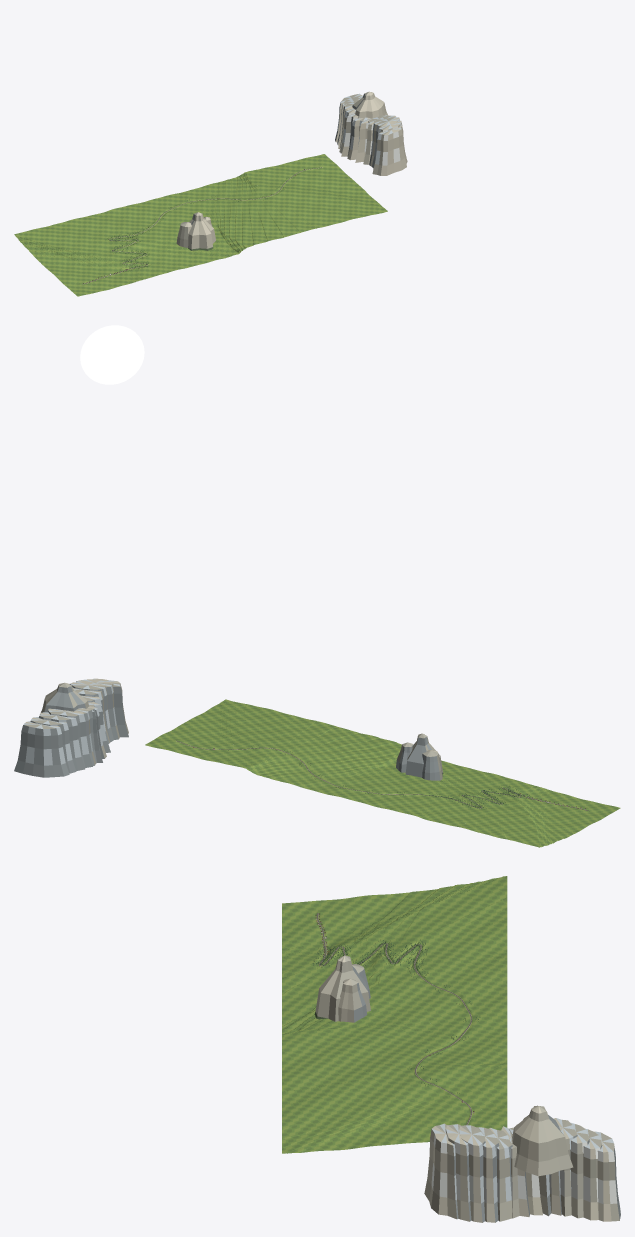
The model's file is campolongo.glb.
The picture shows the model from 3 angles, top to bottom: view 1: azimuth 30°, elevation 25°; view 2: azimuth 150°, elevation 25°; view 3: azimuth 270°, elevation 25°; orthographic projection. The views are drawn at different scales.
Parts seen in each view (by area): view 1: Peaks, Land_014, Land_015, Land_007, Land_017, Land_013, Land_000, Land_004, Land_010, Land_005, Land_009, Land_012 (+6 smaller); view 2: Peaks, Land_014, Sun, Land_015, Land_013, Land_017, Land_007, Land_000, Land_010, Land_012, Land_016, Land_011 (+5 smaller); view 3: Peaks, Land_015, Land_014, Land_007, Land_000, Land_017, Land_013, Land_010, Land_016, Land_009, Land_011, Land_008 (+7 smaller).
Boxes of the visible parts, x1,y1,x2,y2 form: Peaks: (176, 91, 407, 250); Land_014: (247, 181, 332, 246); Land_015: (240, 171, 376, 224); Land_007: (14, 219, 136, 249); Land_017: (291, 154, 387, 213); Land_013: (216, 175, 250, 250); Land_000: (26, 247, 118, 296); Land_004: (128, 242, 242, 261); Land_010: (110, 200, 233, 244); Land_005: (38, 244, 136, 262); Land_009: (108, 210, 235, 247); Land_012: (181, 183, 222, 232); Peaks: (14, 678, 443, 780); Land_014: (261, 716, 400, 766); Sun: (80, 325, 144, 384); Land_015: (228, 703, 295, 771); Land_013: (252, 744, 401, 781); Land_017: (145, 699, 238, 755); Land_007: (457, 795, 553, 847); Land_000: (538, 795, 620, 842); Land_010: (368, 758, 417, 816); Land_012: (283, 763, 386, 794); Land_016: (188, 722, 239, 766); Land_011: (327, 763, 387, 804); Peaks: (314, 955, 620, 1222); Land_015: (282, 1063, 507, 1144); Land_014: (282, 1038, 476, 1105); Land_007: (394, 876, 507, 964); Land_000: (282, 884, 465, 938); Land_017: (282, 1105, 507, 1153); Land_013: (282, 1027, 507, 1064); Land_010: (309, 957, 507, 1029); Land_016: (359, 1068, 507, 1125); Land_009: (304, 956, 507, 1030); Land_011: (357, 990, 507, 1028); Land_008: (402, 927, 507, 968).
Size of the model in its own units: 9105 by 3920 by 5605.
